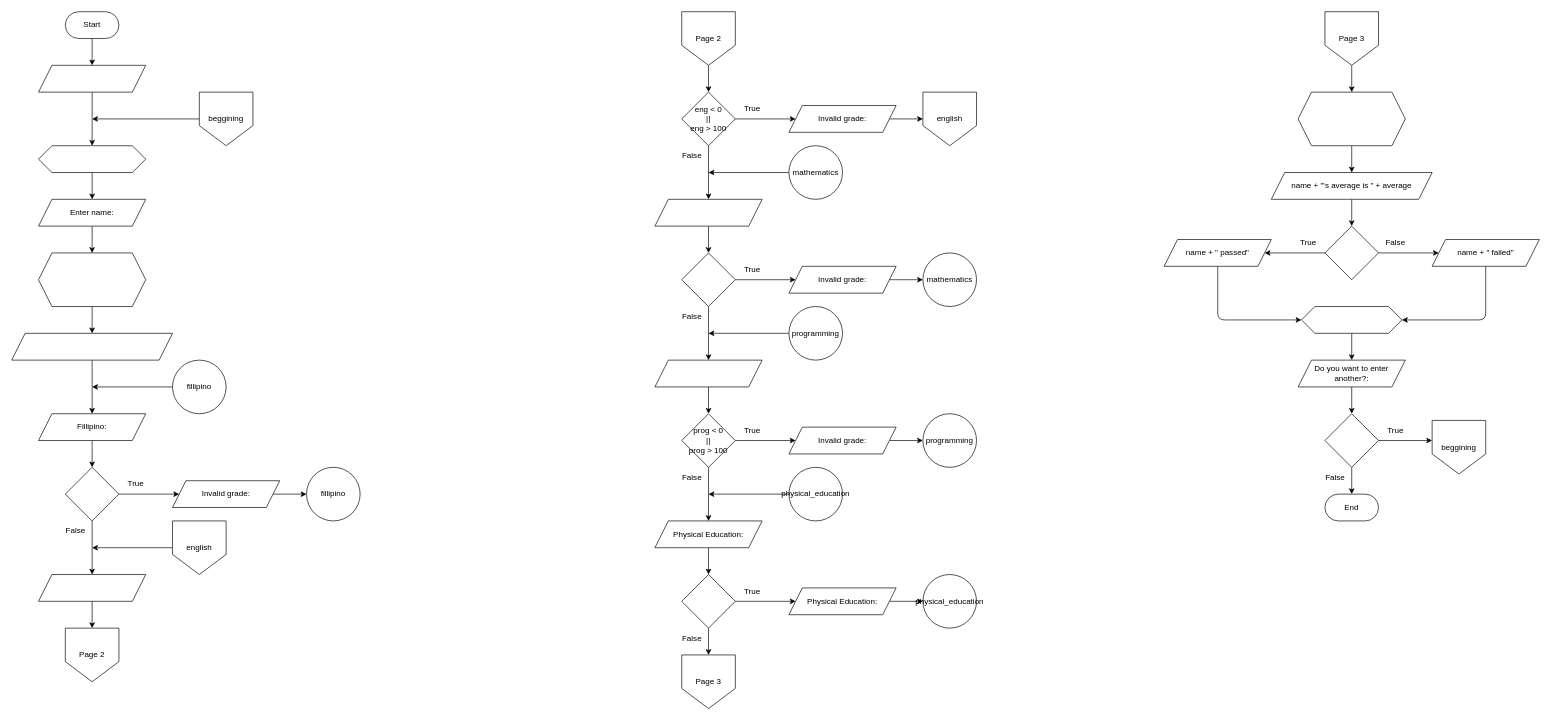
Image size: 1551x720. Some labels were removed from this diagram. Each missing label, with the box of its shape:
"Enter " + name + "'s grades": (11, 333, 173, 360)
average >= 75: (1324, 225, 1379, 280)
char choice;: (1301, 306, 1402, 333)
choice == 'y' || choice == 'Y': (1324, 413, 1379, 467)
English:: (38, 574, 146, 601)
fill < 0 || fill > 100: (65, 467, 119, 521)
Grades Calculator: (38, 65, 146, 92)
int average = (fil + eng + math + prog + pe) / 5: (1297, 91, 1405, 146)
int fil, eng, math, prog, pe;: (38, 252, 146, 307)
math < 0 || math > 100: (681, 252, 735, 307)
Mathematics:: (654, 199, 762, 226)
pe < 0 || pe > 100: (681, 574, 735, 628)
Programming:: (654, 359, 762, 387)
string name;: (38, 145, 146, 173)
